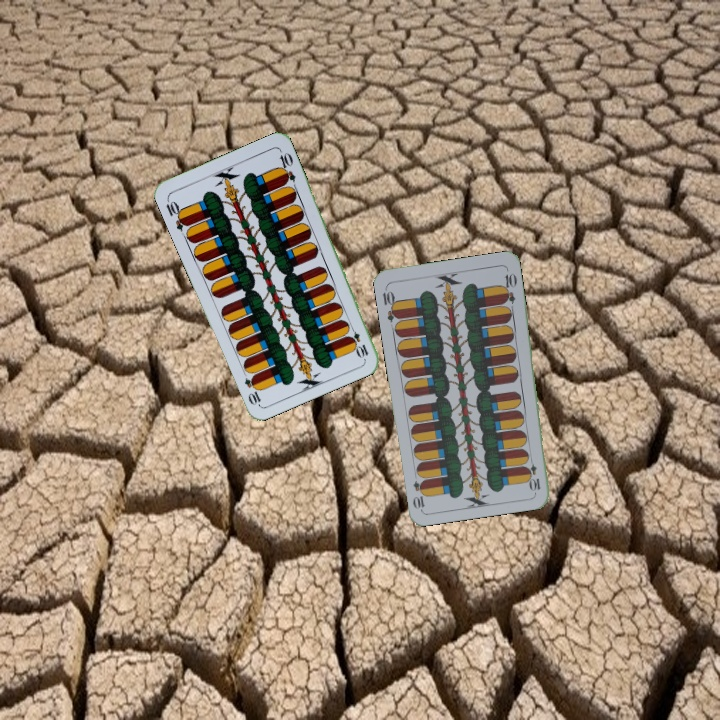E10: (162, 195, 191, 233), (345, 321, 371, 360), (379, 284, 401, 324), (524, 453, 543, 493)
